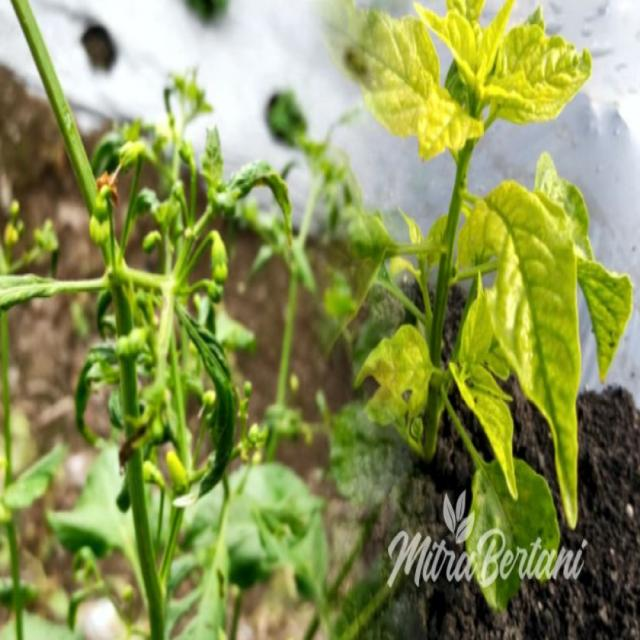virus_kuning: (468, 176, 603, 524), (357, 3, 443, 151), (500, 24, 597, 127)
